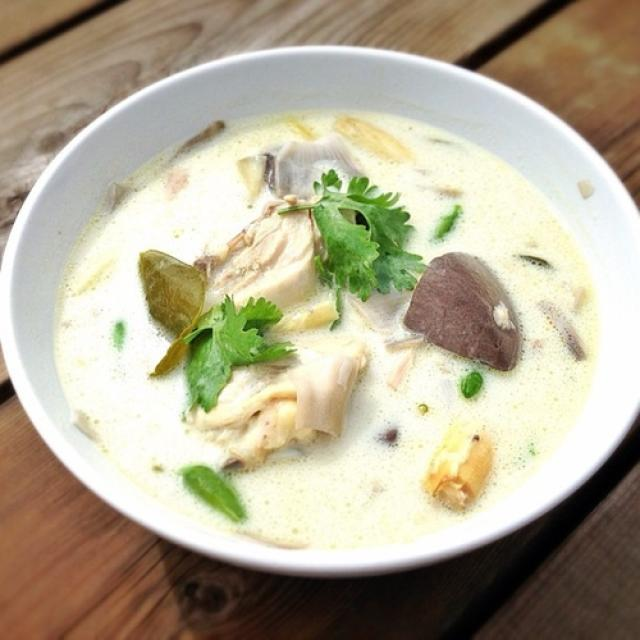汤锅炖物: (27, 50, 609, 576)
